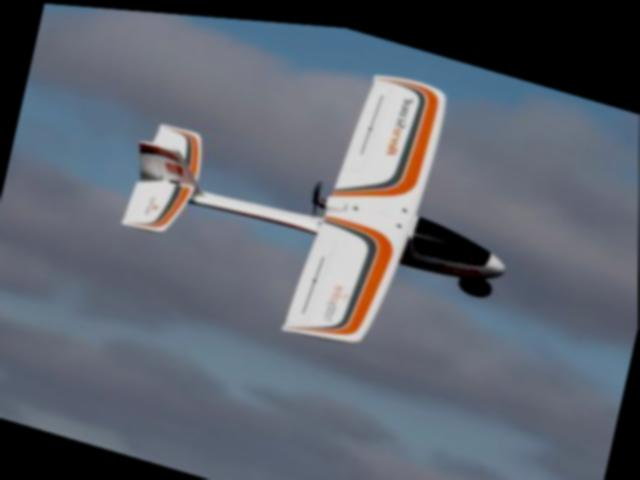uav: (102, 7, 541, 386)
